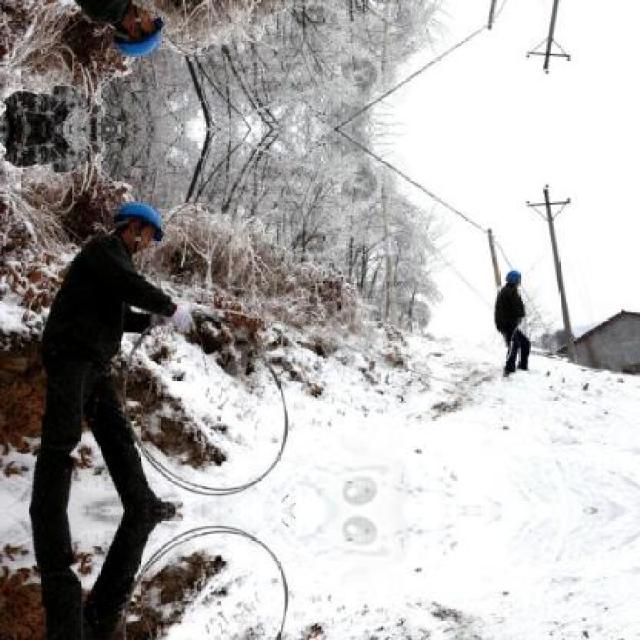helmet: (109, 195, 168, 251), (109, 5, 168, 60), (502, 264, 520, 284)
